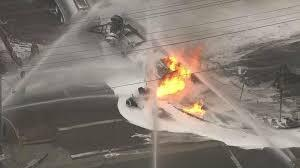fire: (145, 45, 217, 120)
